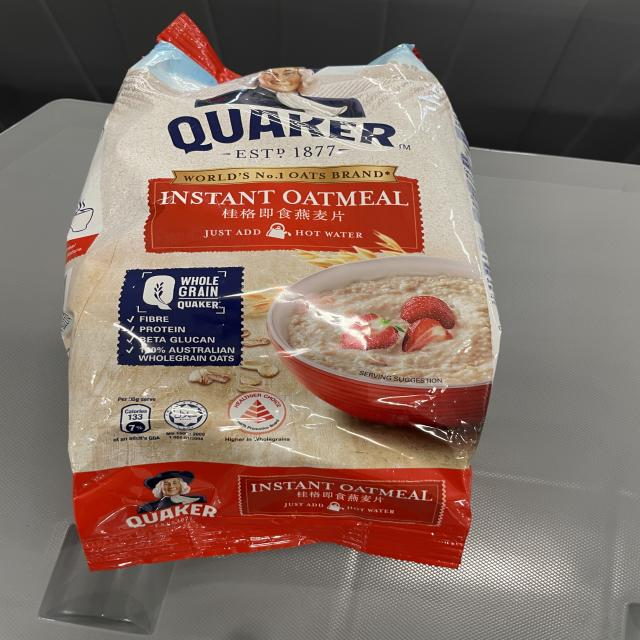object_name: (108, 38, 466, 551)
